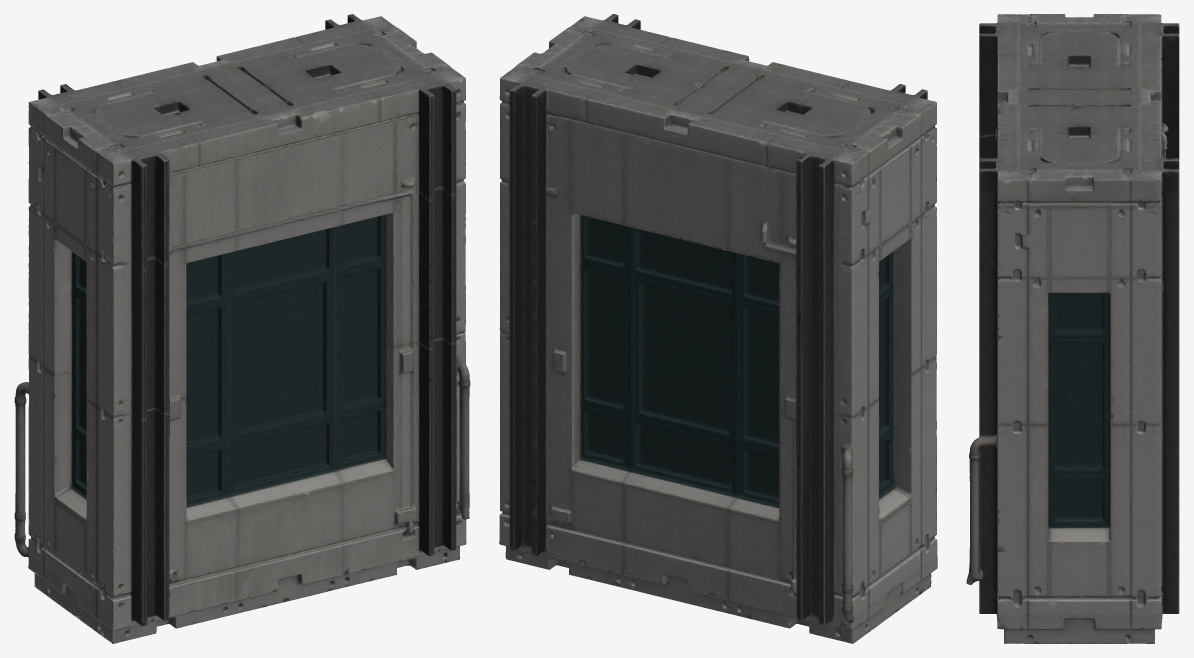
Rendered from modular_facade_concrete_window_section.glb.
3 views of the same model, side by side, from view 1: azimuth 30°, elevation 25°; view 2: azimuth 150°, elevation 25°; view 3: azimuth 270°, elevation 25° (orthographic). The views are drawn at different scales.
Bounding box in the file's own units: 1.48 × 1.9 × 0.7878.
1 material, 1 textured.
